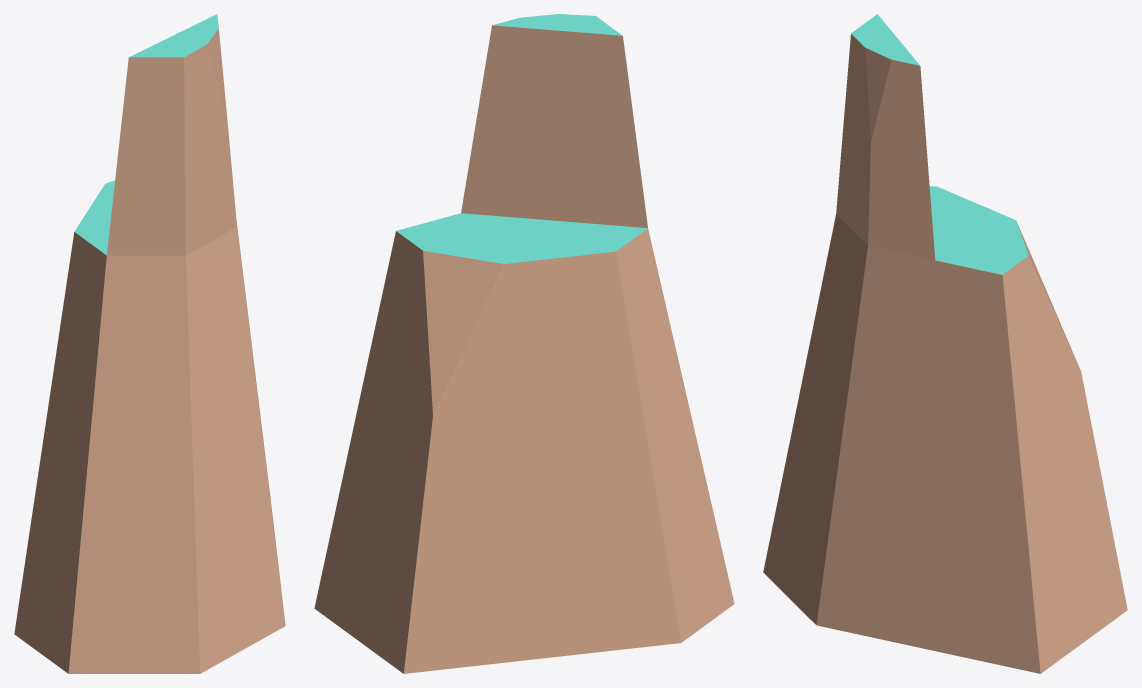
Rendered from rock_tallD.glb.
The picture shows the model from 3 angles, left to right: view 1: azimuth 30°, elevation 25°; view 2: azimuth 150°, elevation 25°; view 3: azimuth 270°, elevation 25°; orthographic projection. The views are drawn at different scales.
Visible parts, largest first — view 1: rock_tallD; view 2: rock_tallD; view 3: rock_tallD.
Part boxes in pixels (x1,y1,x2,y2): rock_tallD: [14, 14, 285, 673]; rock_tallD: [314, 14, 734, 673]; rock_tallD: [763, 14, 1127, 673].
Size of the model in its own units: 0.4428 by 0.7721 by 0.4615.
